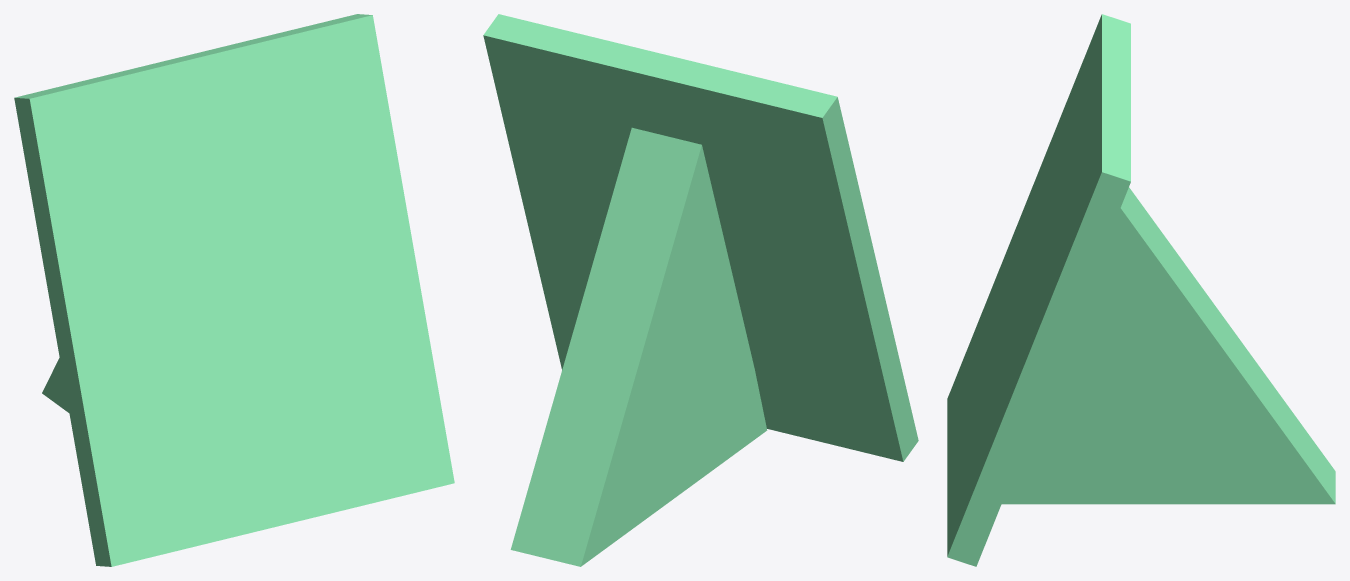
Rendered from PictureFrame01.FBX.
The picture shows the model from 3 angles, left to right: view 1: azimuth 30°, elevation 25°; view 2: azimuth 150°, elevation 25°; view 3: azimuth 270°, elevation 25°; orthographic projection. The views are drawn at different scales.
Visible parts, largest first — view 1: PictureFrame01; view 2: PictureFrame01; view 3: PictureFrame01.
Part boxes in pixels (box(x1,y1,x2,y2)): PictureFrame01: box(14, 14, 454, 566); PictureFrame01: box(483, 14, 918, 566); PictureFrame01: box(947, 14, 1335, 566).
Bounding box in the file's own units: 20.16 × 23.48 × 20.94.
